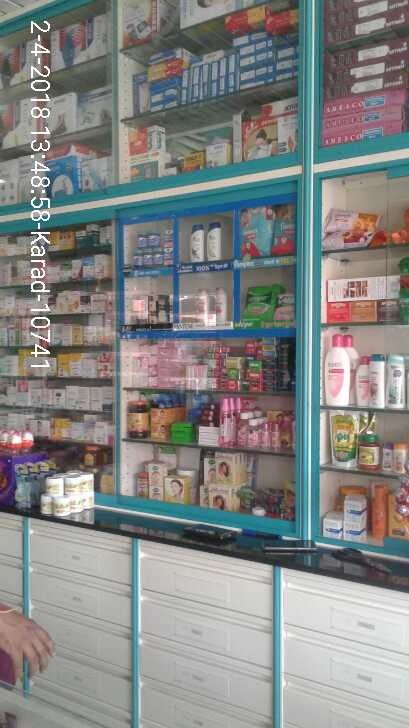vicks: (134, 227, 173, 265), (132, 225, 171, 263)
